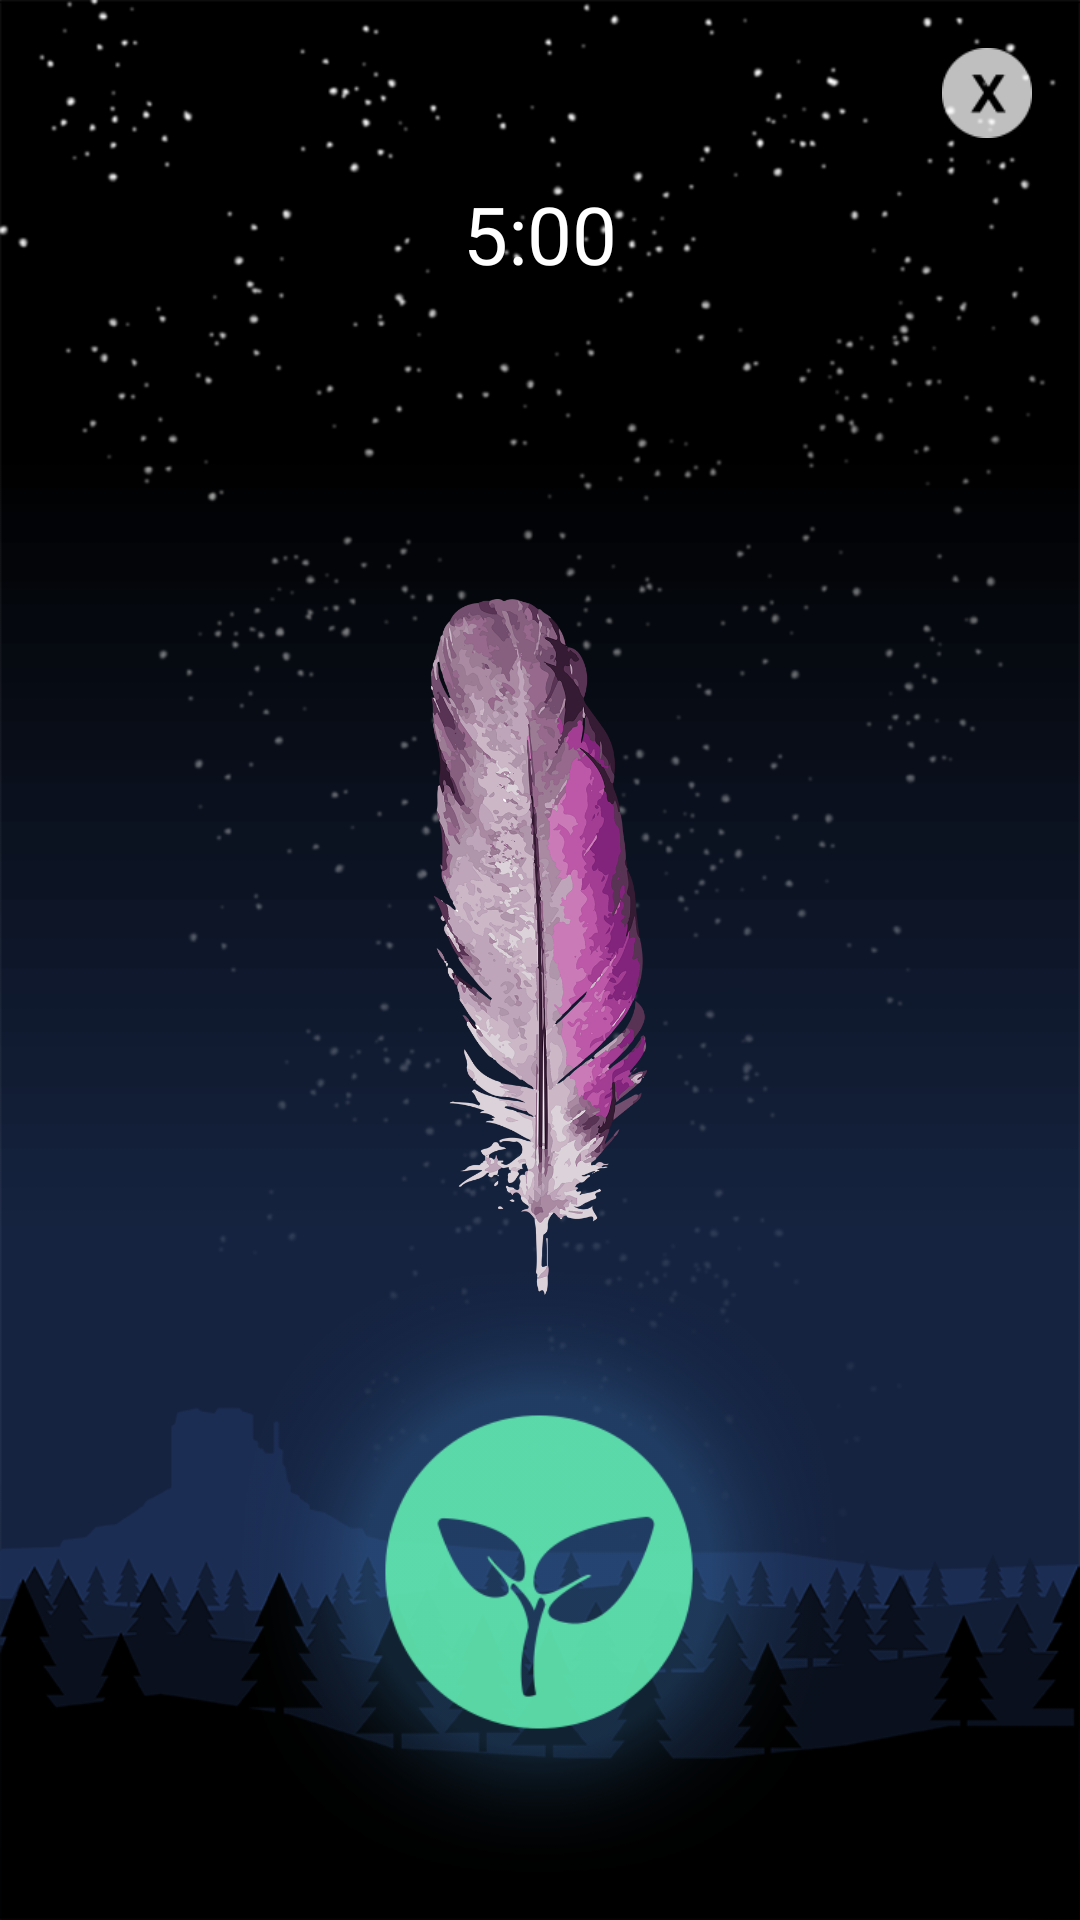

Where icons sit on this 1080w x 1920h app screen, as (x1, y1, x2, y2):
exit breathing: (942, 48, 1032, 138)
